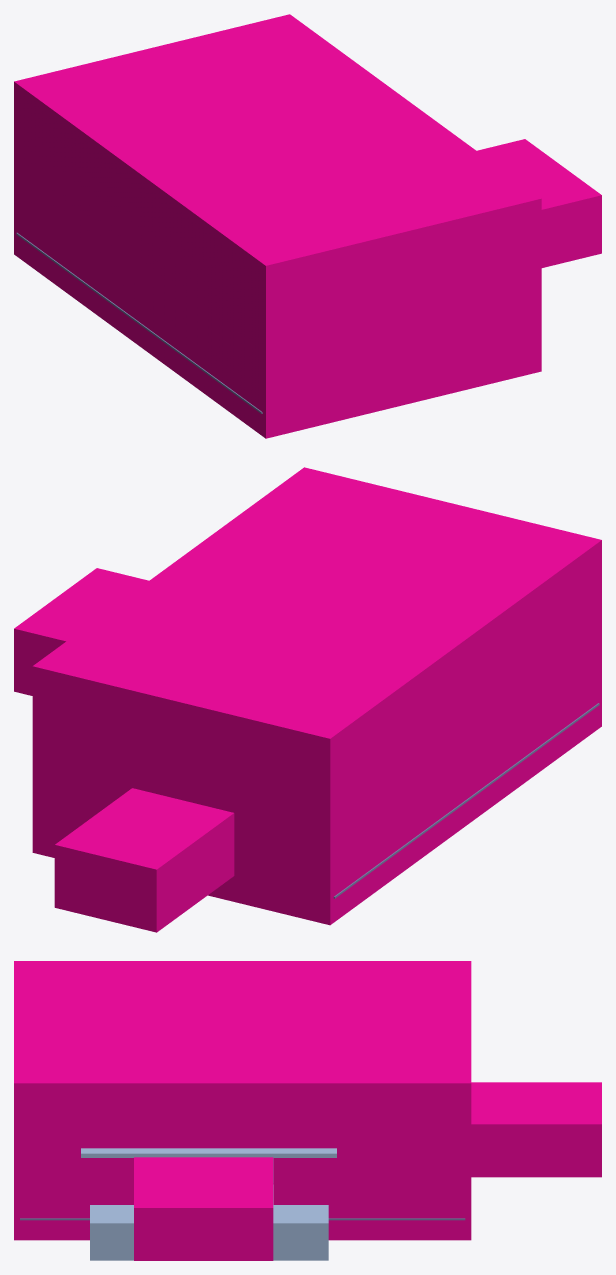
The model's file is sklad4.glb.
3 renders of one model, top to bottom at view 1: azimuth 30°, elevation 25°; view 2: azimuth 150°, elevation 25°; view 3: azimuth 270°, elevation 25°, orthographic. The views are drawn at different scales.
Visible parts, largest first — view 1: Cube, Cube.8, floor; view 2: Cube, Cube.9, Cube.8, floor; view 3: Cube, Cube.8, Cube.9, Cube.3, Cube.4, floor.
Part boxes in pixels (bbox=[...]): Cube: bbox=[14, 14, 541, 438]; Cube.8: bbox=[477, 139, 601, 267]; floor: bbox=[16, 232, 262, 413]; Cube: bbox=[32, 467, 601, 925]; Cube.9: bbox=[54, 788, 234, 932]; Cube.8: bbox=[14, 568, 148, 695]; floor: bbox=[333, 703, 599, 898]; Cube: bbox=[14, 961, 471, 1240]; Cube.8: bbox=[134, 1157, 273, 1260]; Cube.9: bbox=[471, 1082, 601, 1177]; Cube.3: bbox=[90, 1184, 328, 1260]; Cube.4: bbox=[81, 1148, 336, 1157]; floor: bbox=[20, 1158, 465, 1220].
Size of the model in its own units: 61.43 by 25.53 by 85.45.
